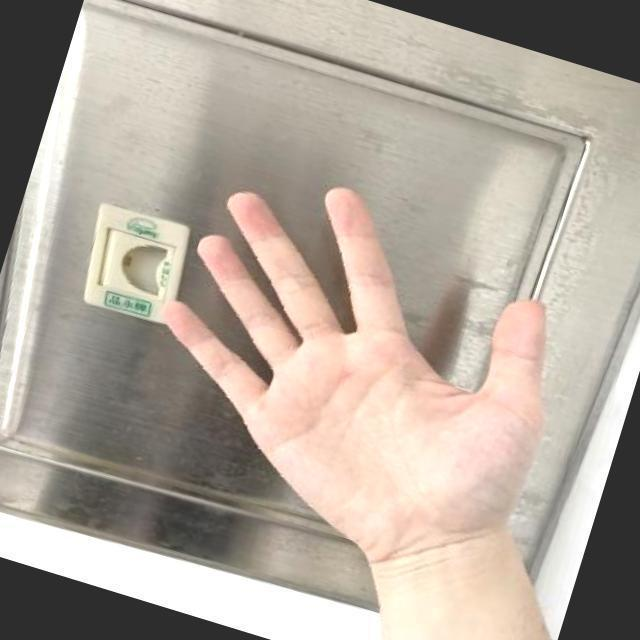hand: (62, 110, 628, 614)
